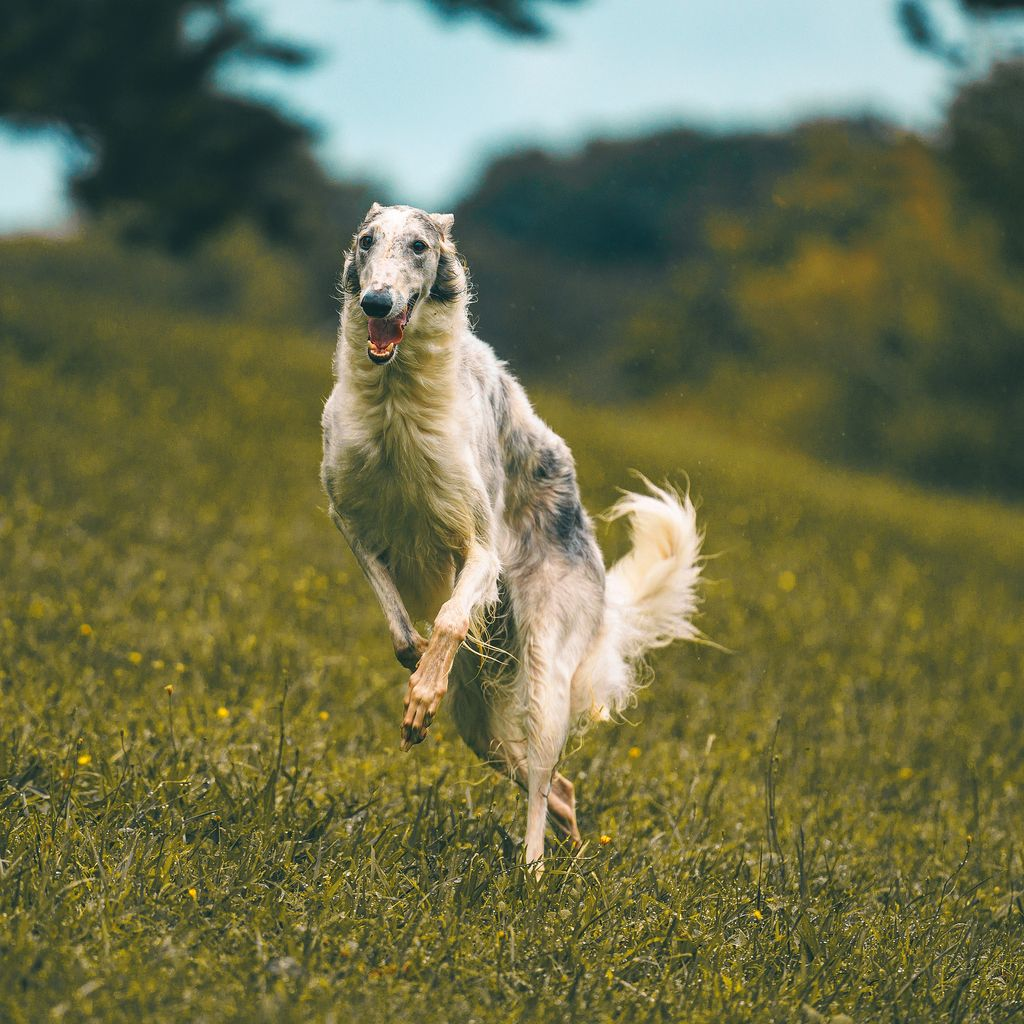borzoi: (320, 185, 710, 900)
